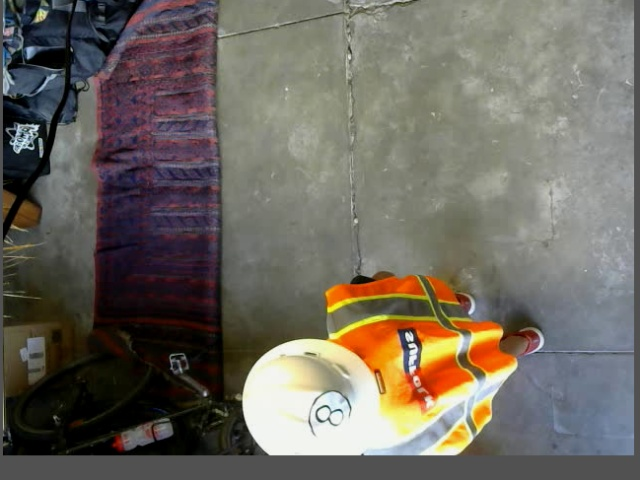eight: (306, 389, 352, 445)
